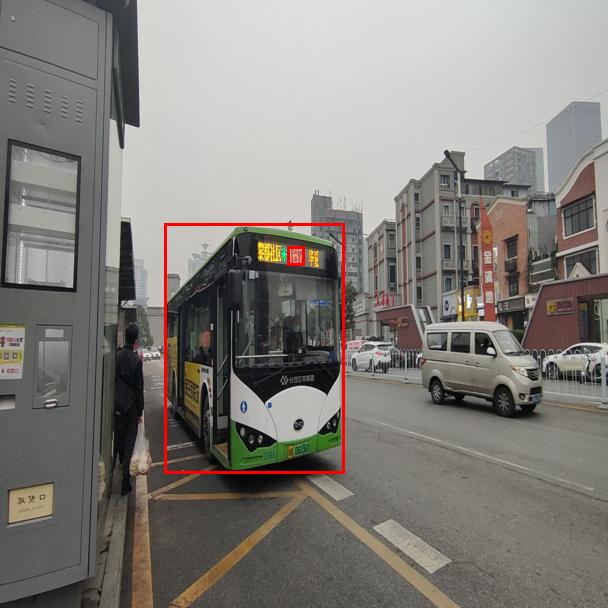bus: (164, 223, 344, 473)
screen: (287, 246, 304, 265)
